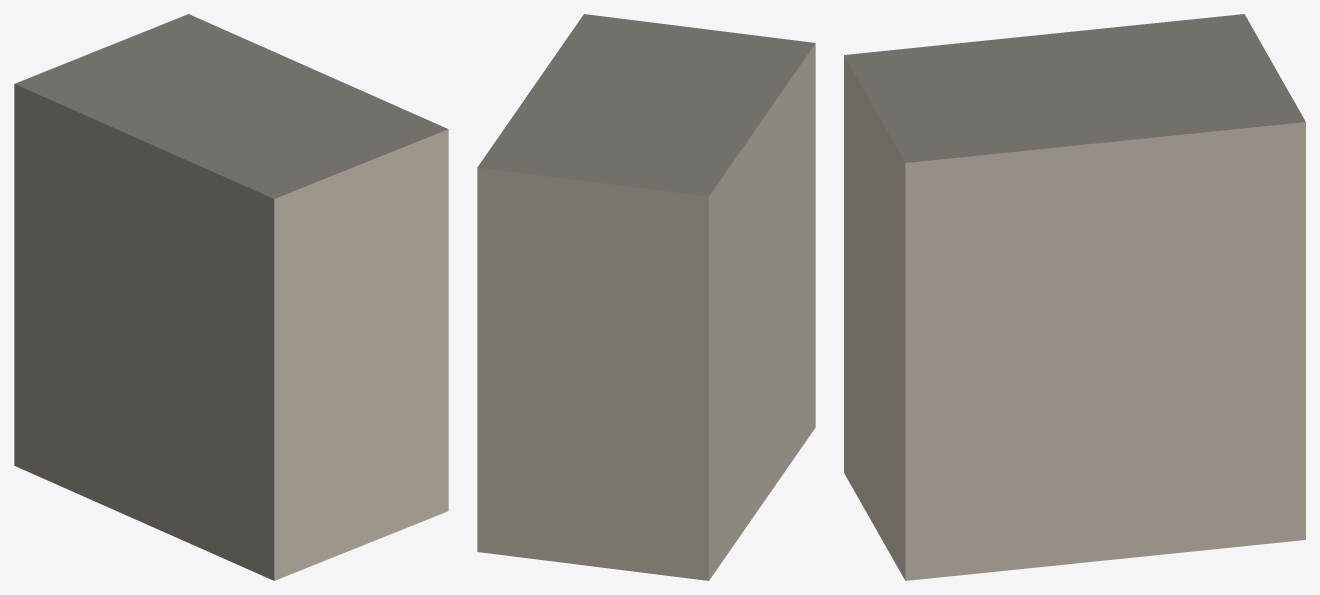
3 views of the same model, side by side, from view 1: azimuth 30°, elevation 25°; view 2: azimuth 150°, elevation 25°; view 3: azimuth 270°, elevation 25° (orthographic). The views are drawn at different scales.
Parts seen in each view (by area): view 1: HP-w702173481; view 2: HP-w702173481; view 3: HP-w702173481.
Boxes of the visible parts, bbox=[...] form: HP-w702173481: bbox=[14, 14, 448, 580]; HP-w702173481: bbox=[477, 14, 815, 580]; HP-w702173481: bbox=[844, 14, 1305, 580].
Bounding box in the file's own units: 13.77 × 18 × 18.03.
